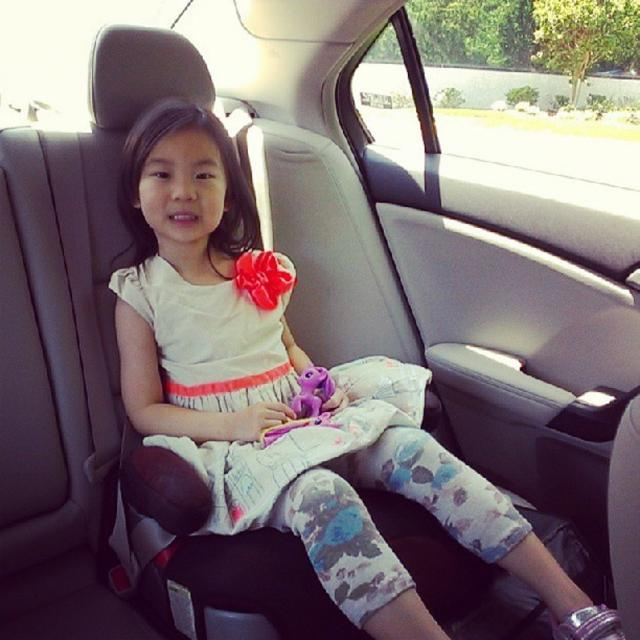SafeDriving: (190, 160, 220, 186), (144, 160, 176, 184)
Seatbelt: (42, 131, 120, 469)
